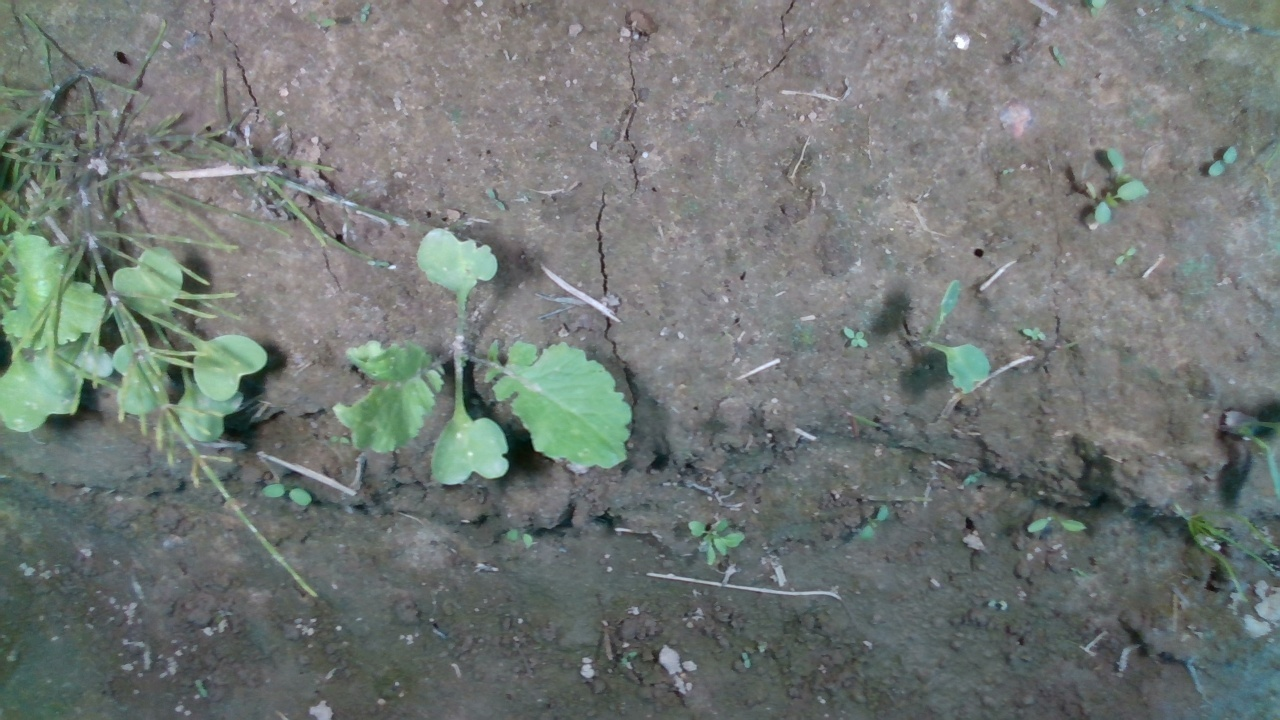weed: (258, 477, 328, 511), (492, 522, 551, 556), (1207, 138, 1251, 180), (842, 322, 887, 355), (1020, 321, 1061, 348)
